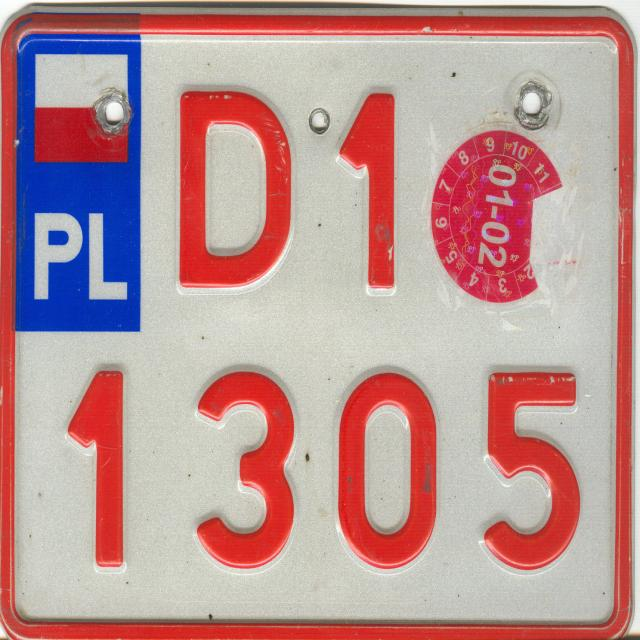pl_license_plate: (9, 26, 624, 632)
